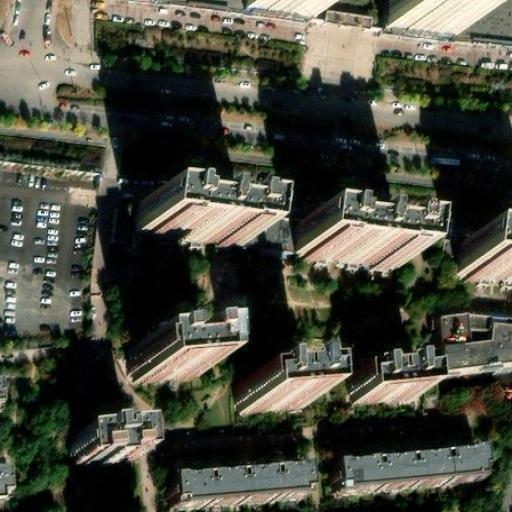building: (324, 443, 473, 486), (434, 324, 512, 388), (158, 462, 296, 498), (0, 135, 103, 181), (131, 213, 240, 255), (290, 231, 398, 273), (291, 21, 374, 74), (384, 0, 459, 46), (455, 0, 512, 50), (350, 365, 418, 404), (232, 377, 303, 412), (126, 343, 196, 376), (454, 248, 512, 284), (65, 431, 123, 467), (321, 6, 373, 28), (171, 0, 242, 11)
